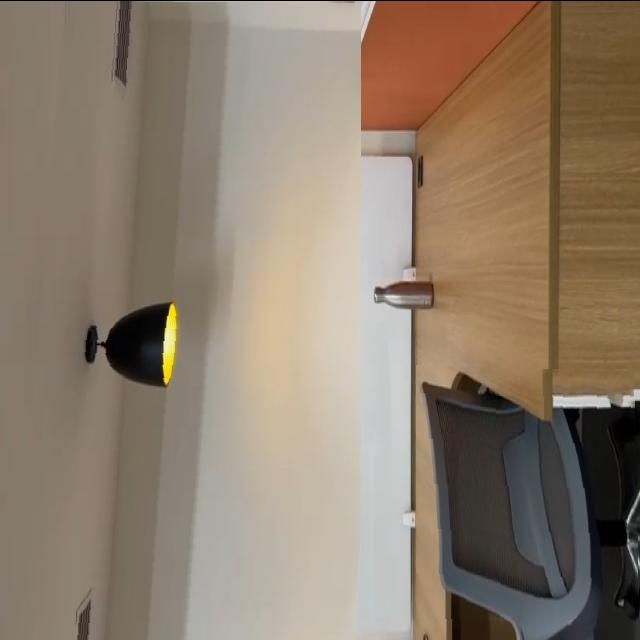furniture: (416, 364, 640, 640)
wall: (12, 0, 361, 640)
